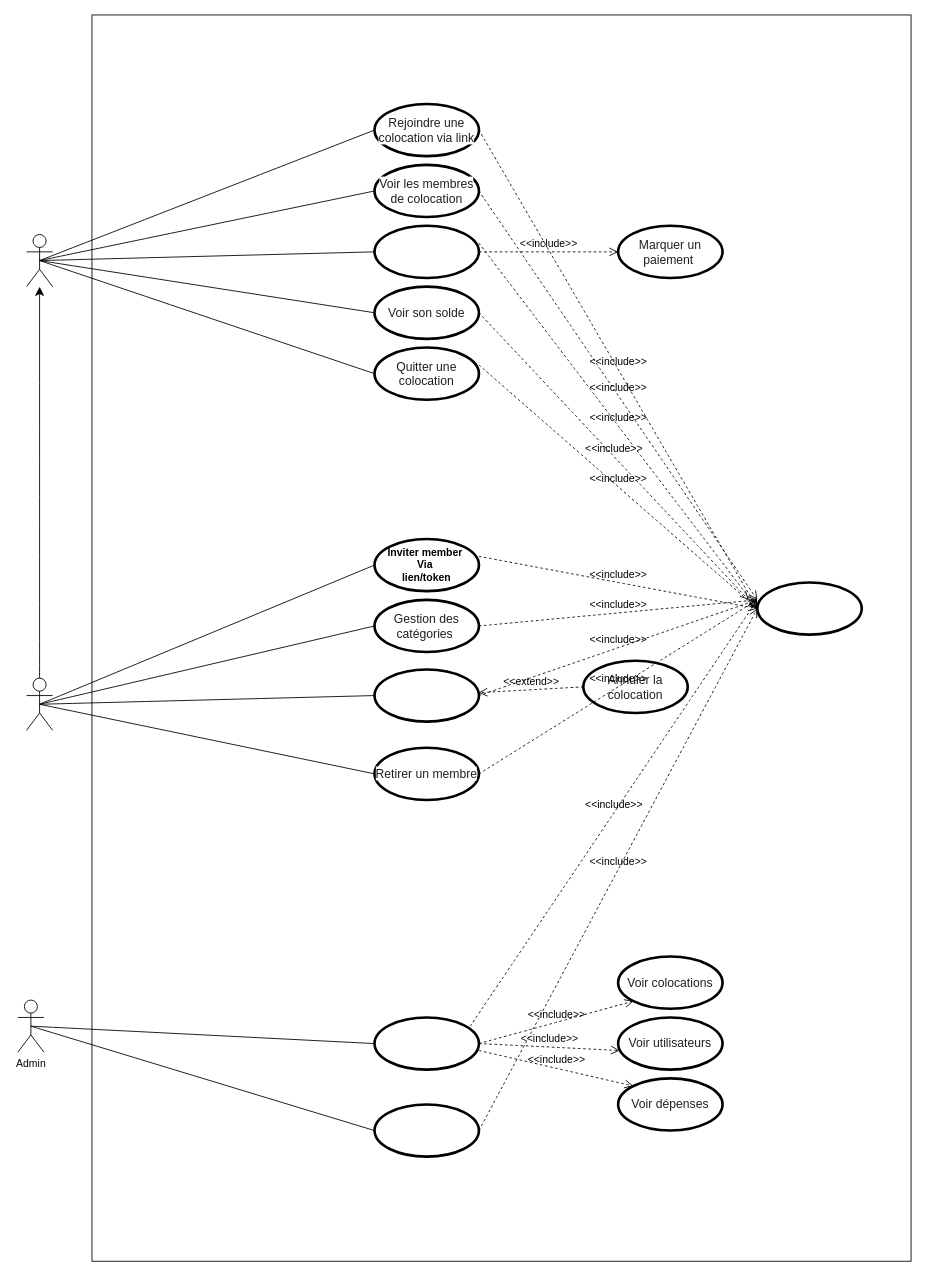
The diagram is 927 pixels wide and 1277 high, and some of its shapes have lost their labels. Each missing label, with the centre of its shape:
Acceder aux statistiques: pixel 426 1043
Ajouter use dépense: pixel 426 251
Auth: pixel 809 608
Bannir / débannir: pixel 426 1130
création de colocations: pixel 426 695
membres: pixel 39 260
Owner: pixel 39 703
